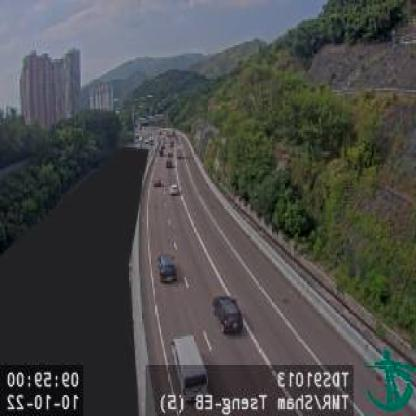Car: (168, 334, 209, 404), (211, 294, 244, 335), (158, 250, 176, 283), (169, 182, 178, 196), (152, 178, 161, 188), (167, 158, 174, 169)
